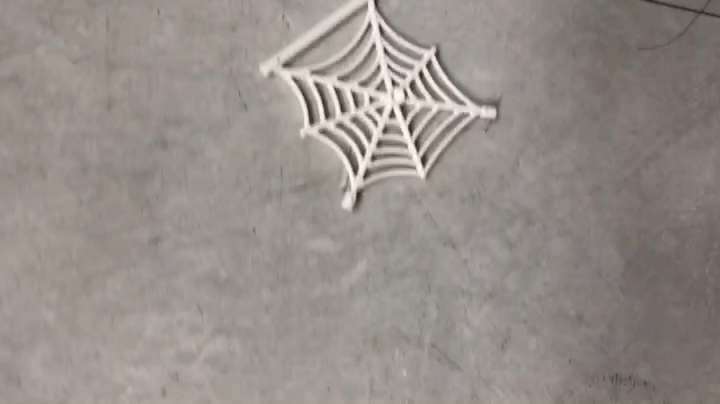web: (258, 1, 503, 214)
